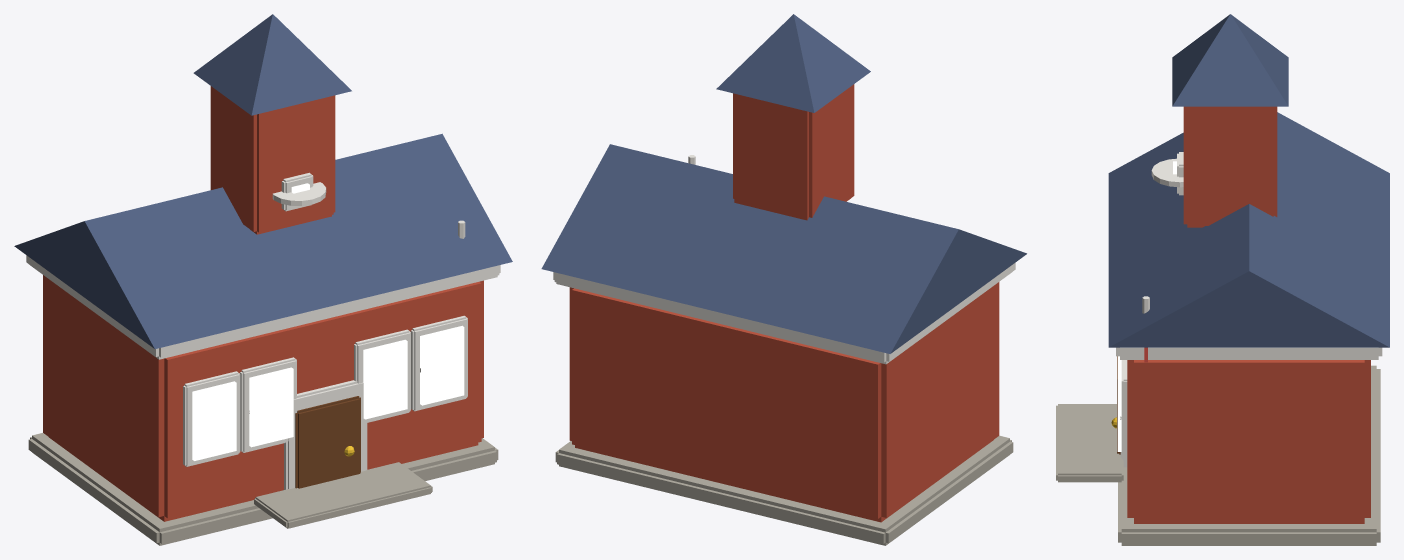
Rendered from school.glb.
3 views of the same model, side by side, from view 1: azimuth 30°, elevation 25°; view 2: azimuth 150°, elevation 25°; view 3: azimuth 270°, elevation 25° (orthographic). The views are drawn at different scales.
Visible parts, largest first — view 1: school; view 2: school; view 3: school.
Boxes of the visible parts, x1,y1,x2,y2 form: school: (14, 14, 512, 545); school: (541, 14, 1026, 545); school: (1056, 14, 1389, 545).
Size of the model in its own units: 2.2 by 2.65 by 1.78.
